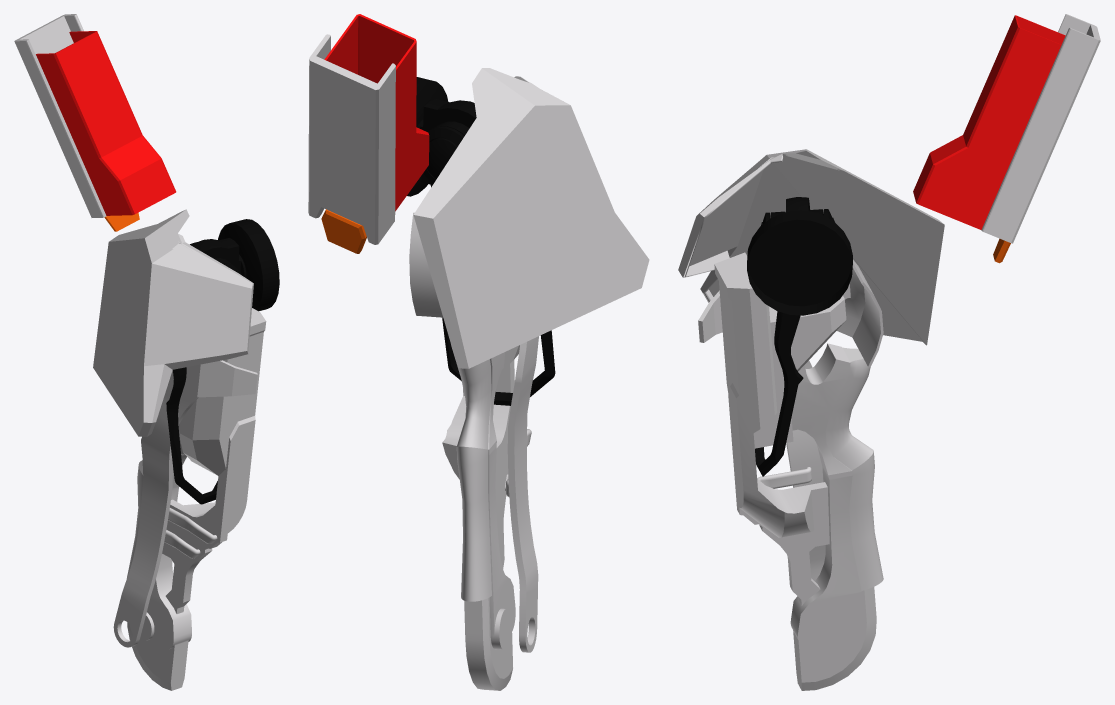
File: rightUpperArm.obj
3 views of the same model, side by side, from view 1: azimuth 30°, elevation 25°; view 2: azimuth 150°, elevation 25°; view 3: azimuth 270°, elevation 25° (orthographic). The views are drawn at different scales.
Parts seen in each view (by area): view 1: rightUpperArm1; view 2: rightUpperArm1; view 3: rightUpperArm1.
Part boxes in pixels (x1,y1,x2,y2): rightUpperArm1: [14, 14, 279, 690]; rightUpperArm1: [308, 14, 649, 690]; rightUpperArm1: [678, 14, 1100, 690].
Size of the model in its own units: 0.7479 by 2.71 by 1.55.
